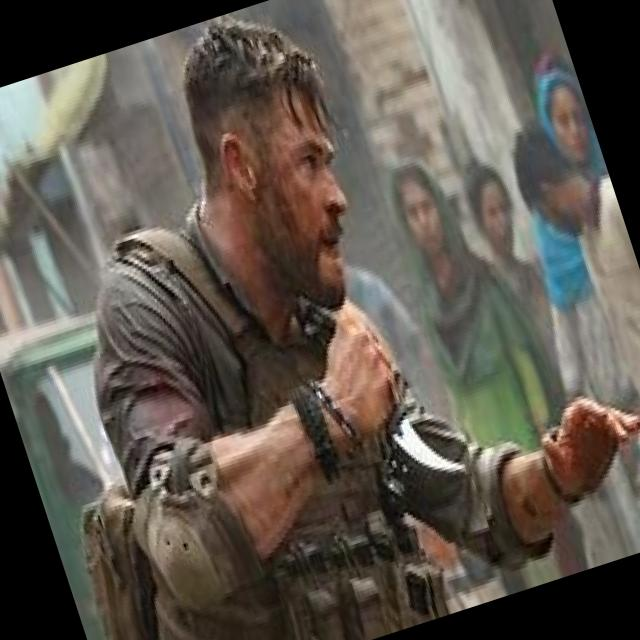knife: (376, 387, 479, 508)
